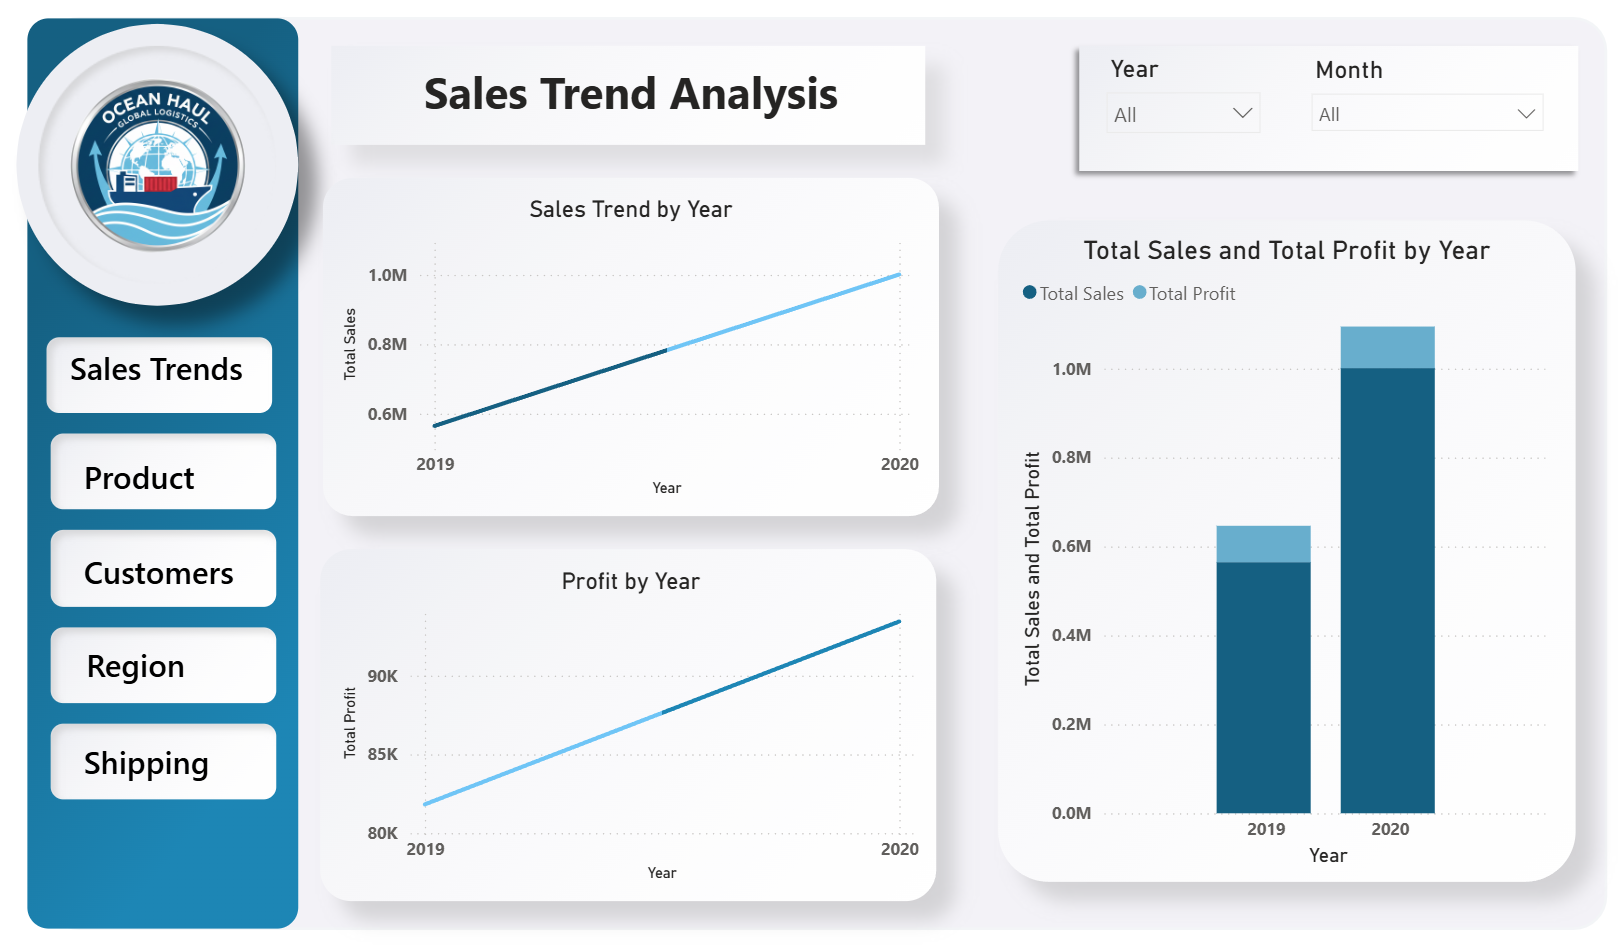

Layout of this report page (visuals, bound fields, positions):
{"tool":"powerbi","page":{"name":"Page 2","canvas":[1280,720],"ordinal":1},"visuals":[{"type":"textbox","box":[293.8,53.8,452.5,73.8],"z":7000},{"type":"lineChart","title":"Sales Trend by Year","fields":{"Category":["Sheet1.Order Date.Variation.Date Hierarchy.Year","Sheet1.Order Date.Variation.Date Hierarchy.Quarter","Sheet1.Order Date.Variation.Date Hierarchy.Month","Sheet1.Order Date.Variation.Date Hierarchy.Day"],"Y":["Sheet1.Total Sales"]},"box":[305.6,155.6,428.9,224.4],"z":8000},{"type":"lineChart","title":"Profit by Year","fields":{"Category":["Sheet1.Order Date.Variation.Date Hierarchy.Year","Sheet1.Order Date.Variation.Date Hierarchy.Quarter","Sheet1.Order Date.Variation.Date Hierarchy.Month","Sheet1.Order Date.Variation.Date Hierarchy.Day"],"Y":["Sheet1.Total Profit"]},"box":[305.6,426.7,428.9,233.3],"z":9000},{"type":"columnChart","fields":{"Category":["Sheet1.Order Date.Variation.Date Hierarchy.Year","Sheet1.Order Date.Variation.Date Hierarchy.Quarter","Sheet1.Order Date.Variation.Date Hierarchy.Month","Sheet1.Order Date.Variation.Date Hierarchy.Day"],"Y":["Sheet1.Total Sales","Sheet1.Total Profit"]},"box":[798.7,184.6,395.7,464.5],"z":10000},{"type":"slicer","fields":{"Values":["Sheet1.Order Date.Variation.Date Hierarchy.Month"]},"box":[1005,49.5,189.4,80.8],"z":11000},{"type":"slicer","fields":{"Values":["Sheet1.Order Date.Variation.Date Hierarchy.Year"]},"box":[855.4,48.3,132.7,82],"z":12000},{"type":"actionButton","box":[111.2,261.2,146.2,40],"z":12001},{"type":"actionButton","box":[122.5,476.2,146.2,40],"z":12002},{"type":"actionButton","box":[121.2,408.8,147.5,40],"z":12003},{"type":"actionButton","box":[121.2,547.5,147.5,40],"z":12004},{"type":"actionButton","box":[121.2,338.8,147.5,41.2],"z":12005},{"type":"image","box":[82.5,42.5,186.2,183.8],"z":12006}]}

Visuals, with their boxes on the page's 1280x720 design canvas (x1, y1, x2, y2). These are canvas units, not pixel positions in the 1621x945 screenshot, which may show the page scaled, cropped or inside an application window:
textbox: BBox(294, 54, 746, 128)
"Sales Trend by Year" lineChart: BBox(306, 156, 734, 380)
"Profit by Year" lineChart: BBox(306, 427, 734, 660)
columnChart - Sheet1.Order Date.Variation.Date Hierarchy.Year x Sheet1.Order Date.Variation.Date Hierarchy.Quarter: BBox(799, 185, 1194, 649)
slicer - Sheet1.Order Date.Variation.Date Hierarchy.Month: BBox(1005, 50, 1194, 130)
slicer - Sheet1.Order Date.Variation.Date Hierarchy.Year: BBox(855, 48, 988, 130)
actionButton: BBox(111, 261, 257, 301)
actionButton: BBox(122, 476, 269, 516)
actionButton: BBox(121, 409, 269, 449)
actionButton: BBox(121, 548, 269, 588)
actionButton: BBox(121, 339, 269, 380)
image: BBox(82, 42, 269, 226)
